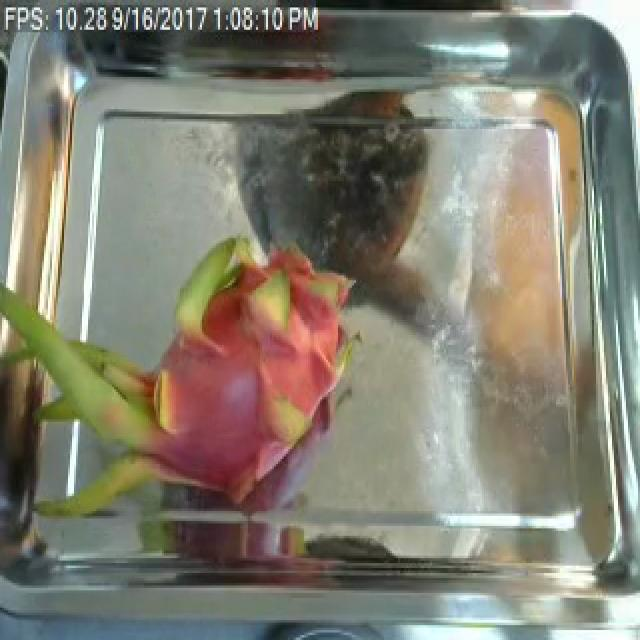fruit: (4, 179, 370, 543)
